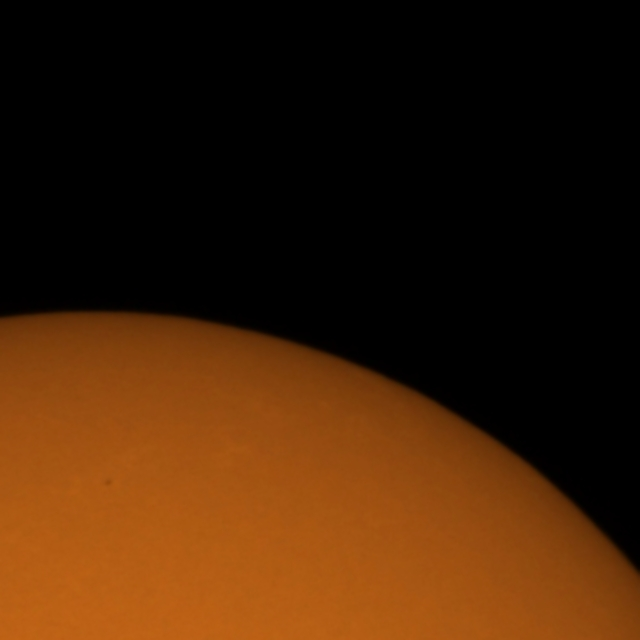sunspot: (101, 476, 114, 489)
